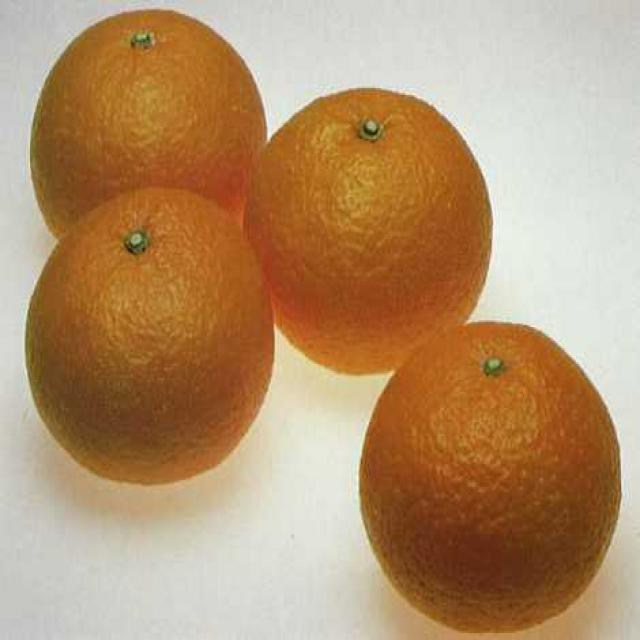Orange: (362, 318, 622, 633), (22, 184, 276, 491), (246, 84, 494, 382), (26, 8, 270, 250)
